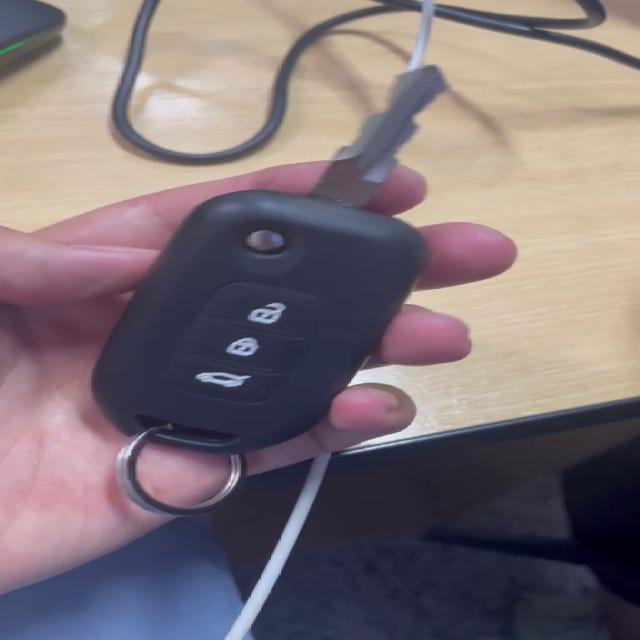llave-auto: (11, 14, 612, 534)
